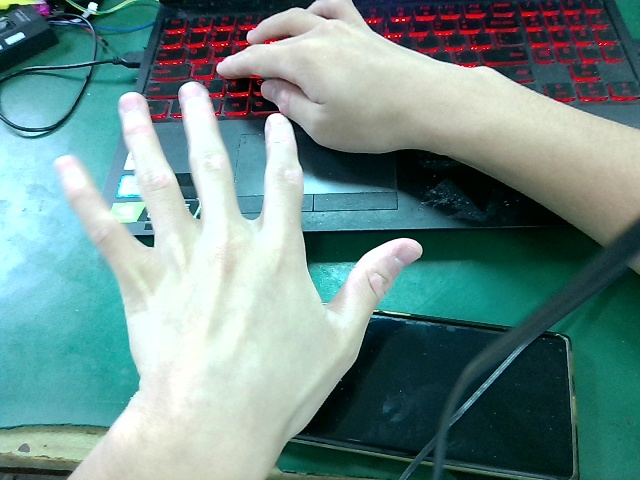paper: (46, 78, 428, 474)
